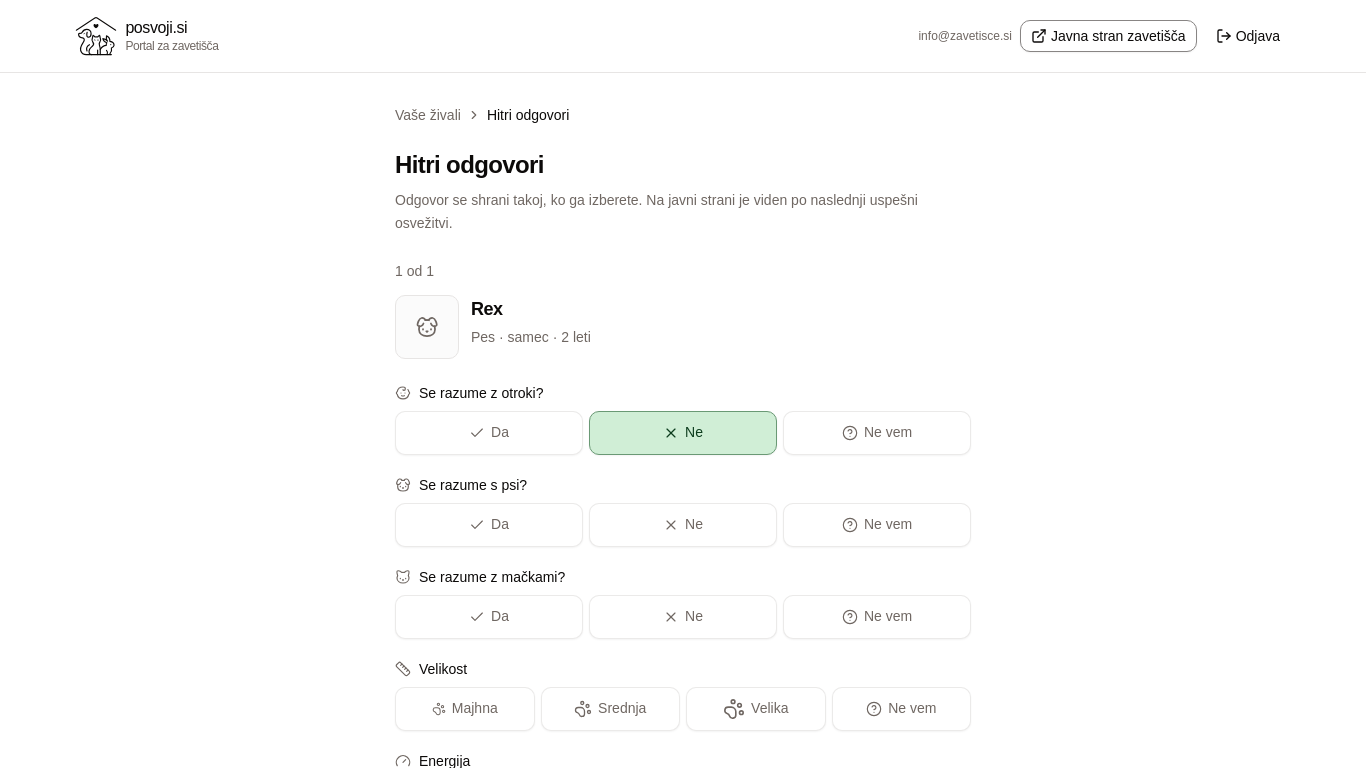
a tap › takes the shelter's own household answer back on Ne vem
Expected: the heading "Rex" is shown, [471,298,503,318]
What coordinates should you click on to do the following:
click the radio button labelled "Ne vem" below "Se razume z otroki?"
I would click on:
 (877, 432)
Its box is [783,410,971,454].
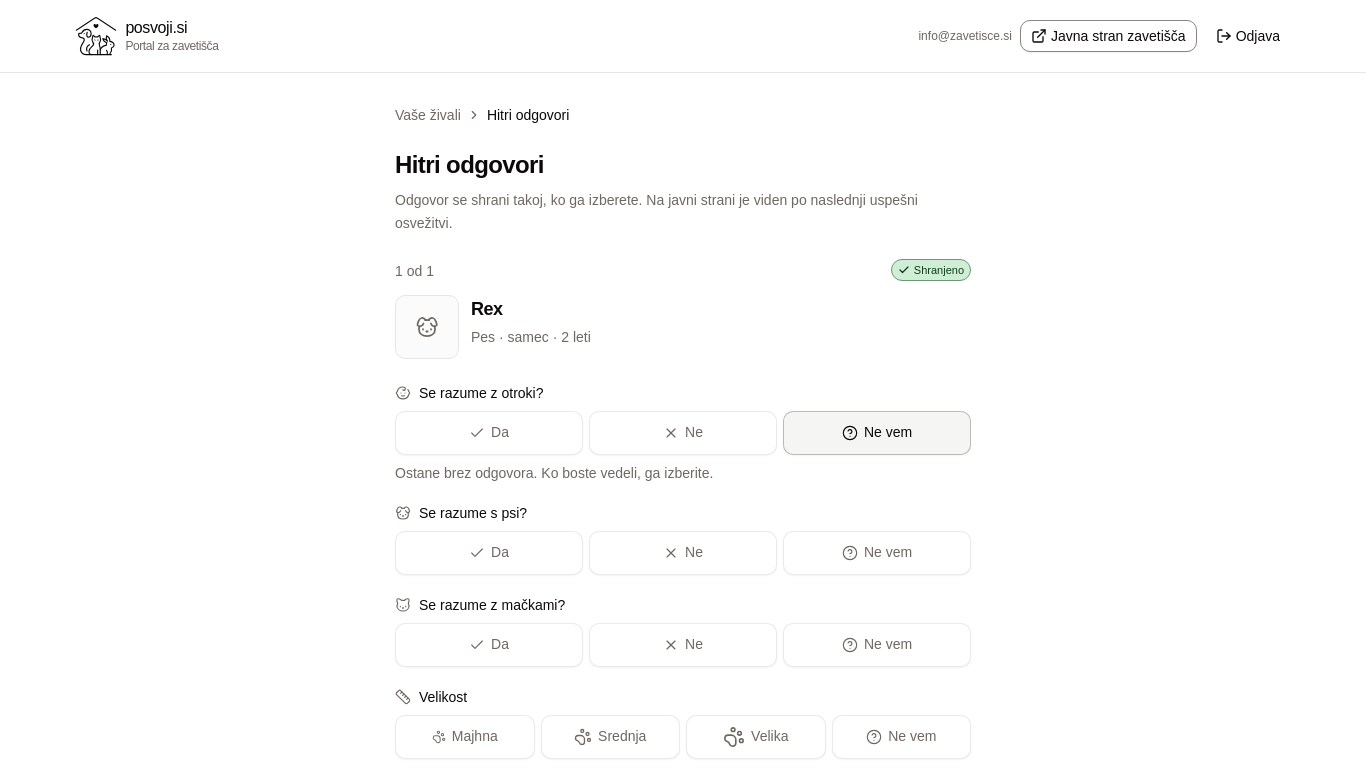
Expected: the text "Ostane brez odgovora. Ko boste vedeli, ga izberite." is shown, [395,465,713,481]
